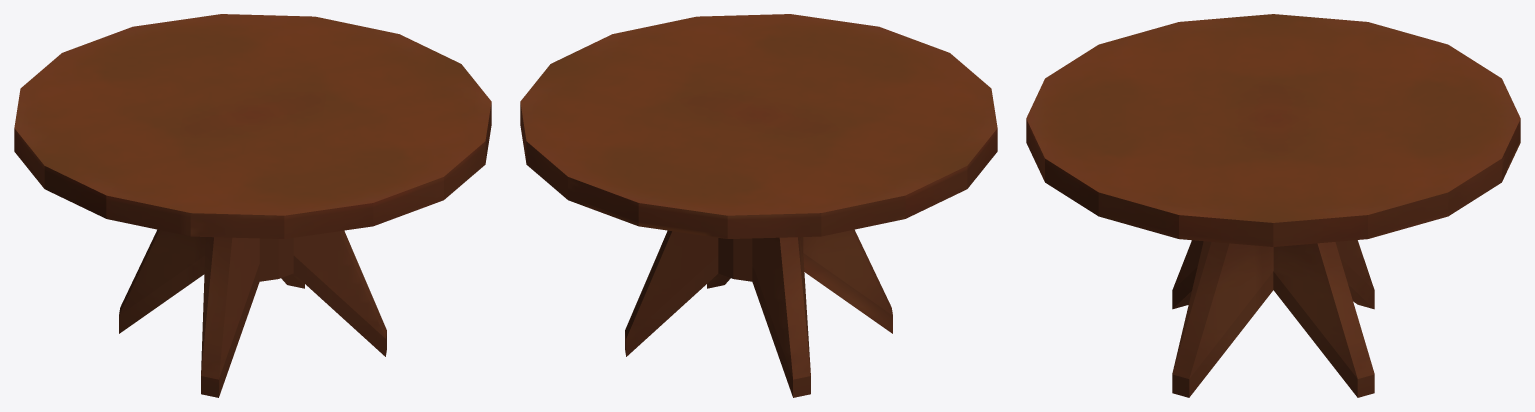
File: CircleTable.glb
3 renders of one model, left to right at view 1: azimuth 30°, elevation 25°; view 2: azimuth 150°, elevation 25°; view 3: azimuth 270°, elevation 25°, orthographic. The views are drawn at different scales.
Parts seen in each view (by area): view 1: Cylinder; view 2: Cylinder; view 3: Cylinder.
Boxes of the visible parts, box(x1,y1,x2,y2) form: Cylinder: box(14, 14, 491, 397); Cylinder: box(520, 14, 997, 397); Cylinder: box(1026, 14, 1520, 397).
Size of the model in its own units: 1.99 by 1.03 by 1.99.
Materials: 1 (1 with a texture image).
